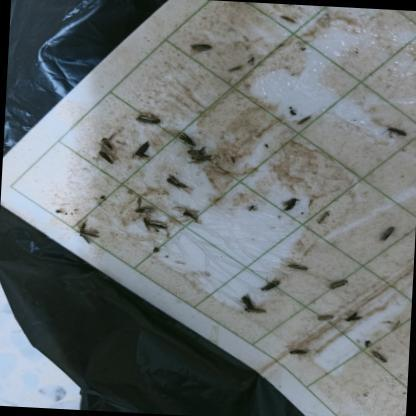prays_oleae: (235, 290, 270, 324), (68, 217, 100, 246), (132, 105, 164, 131), (163, 169, 192, 195), (284, 338, 308, 366), (142, 213, 171, 236), (285, 254, 310, 278), (326, 270, 350, 294), (184, 145, 216, 163), (342, 306, 366, 329), (188, 36, 214, 57), (387, 120, 411, 142), (281, 190, 301, 216), (132, 141, 154, 164), (180, 204, 202, 226), (258, 278, 282, 297), (380, 219, 396, 243), (370, 346, 389, 366), (98, 149, 118, 168), (174, 127, 197, 142), (316, 310, 335, 327), (99, 134, 115, 152)
